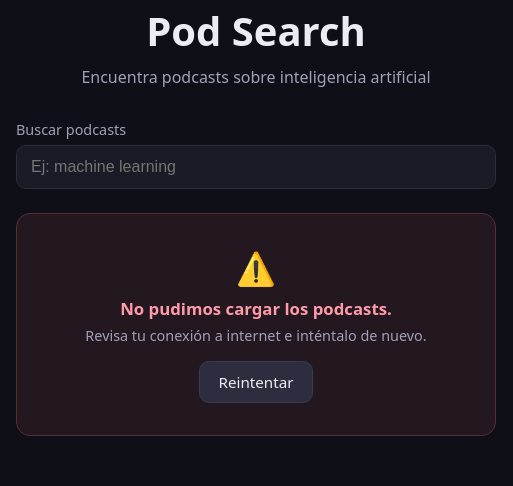
Test case: momento 4: error con Reintentar › muestra un mensaje legible y Reintentar vuelve a pedir lo mismo, de verdad
The width and height of the screenshot is (513, 486).
Expected: the message shows "No pudimos cargar los podcasts", x1=120 y1=297 x2=392 y2=320
What coordinates should you click on to do the following:
click the button "Reintentar"
I would click on:
 (256, 382)
Its box is x1=200 y1=361 x2=312 y2=403.
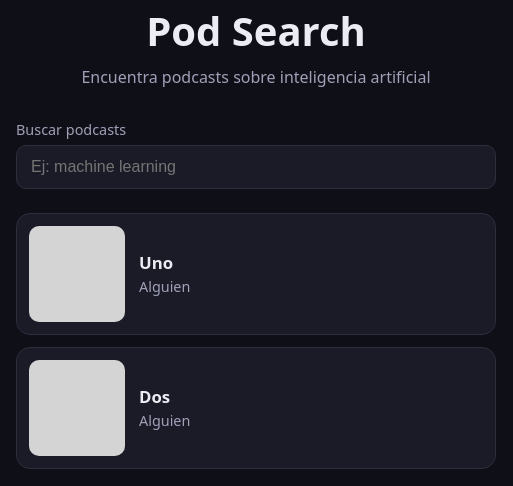
Now the number of list items is 2, box x1=16 y1=213 x2=496 y2=335; x1=16 y1=347 x2=496 y2=469
Now the message "⚠️ No pudimos cargar los podcasts. Revisa tu conexión a internet e inténtalo de" is gone
